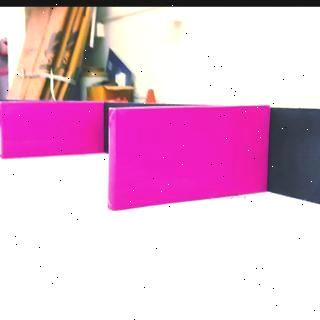xparking: (110, 106, 266, 199), (2, 103, 102, 155)
